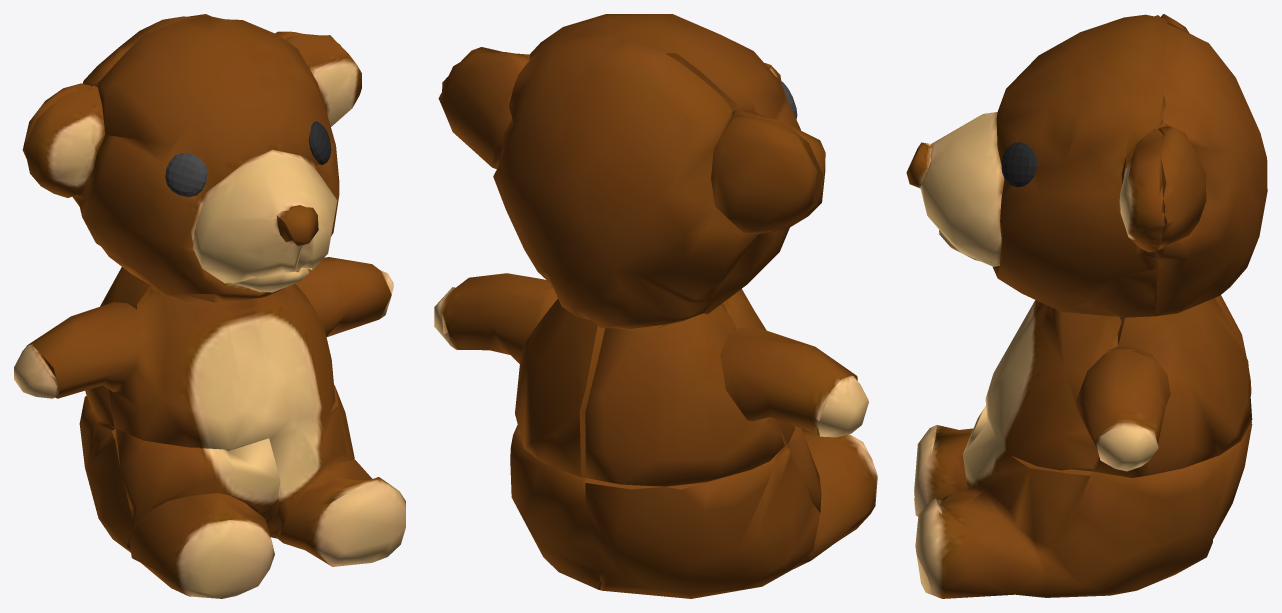
Rendered from teddy.glb.
3 renders of one model, left to right at view 1: azimuth 30°, elevation 25°; view 2: azimuth 150°, elevation 25°; view 3: azimuth 270°, elevation 25°, orthographic. The views are drawn at different scales.
Visible parts, largest first — view 1: Group24127_Material #27_0, Group24127_Material #26_0, Group24127_Material #25_0; view 2: Group24127_Material #27_0; view 3: Group24127_Material #27_0, Group24127_Material #25_0.
Boxes of the visible parts, <box> form: Group24127_Material #27_0: <box>14,14,405,598</box>; Group24127_Material #26_0: <box>165,153,207,197</box>; Group24127_Material #25_0: <box>309,121,331,164</box>; Group24127_Material #27_0: <box>434,14,877,598</box>; Group24127_Material #27_0: <box>906,14,1267,598</box>; Group24127_Material #25_0: <box>1001,142,1037,187</box>.
Size of the model in its own units: 15.52 by 19.27 by 12.23.
Materials: 3 (1 with a texture image).
